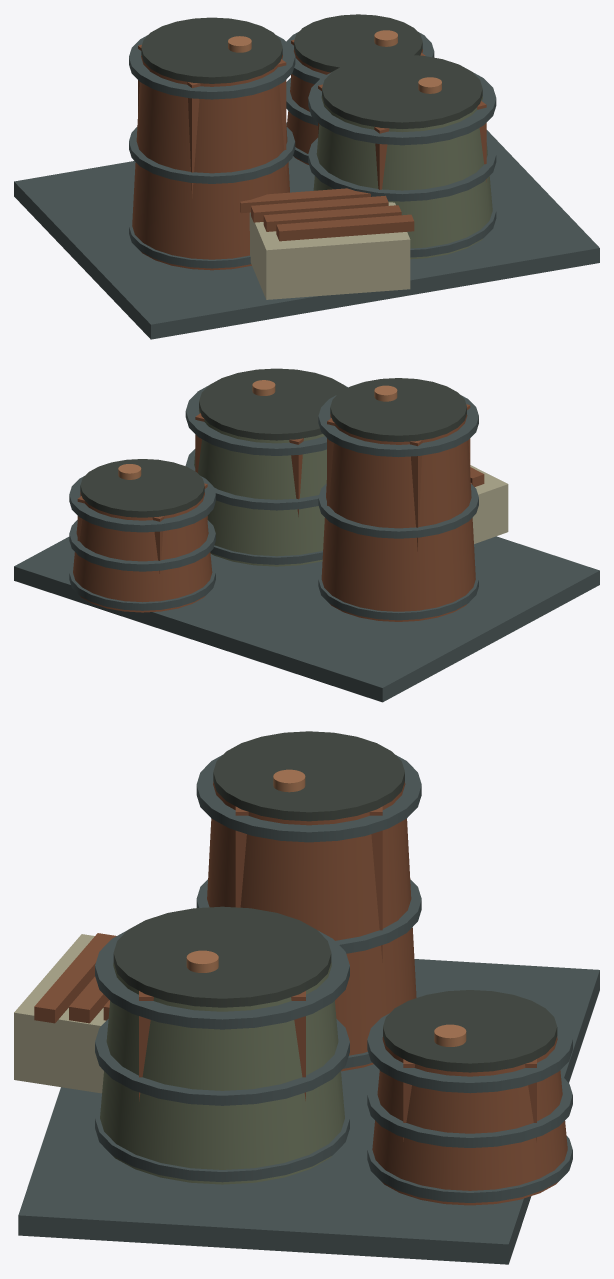
File: FSA_ENV_Outdoor_Scrap_05_Drums.glb
3 renders of one model, top to bottom at view 1: azimuth 30°, elevation 25°; view 2: azimuth 150°, elevation 25°; view 3: azimuth 270°, elevation 25°, orthographic. The views are drawn at different scales.
Visible parts, largest first — view 1: BasePlate, Drum0, Drum1, CrushedCan, Lid1, Lid0, Lid2, Hoop1_2, Hoop0_2, Hoop1_1, DentFold3, Hoop0_1 (+10 smaller); view 2: BasePlate, Drum0, Drum1, Drum2, Lid1, Lid0, Lid2, Hoop0_2, Hoop2_2, Hoop1_2, Hoop0_1, CrushedCan (+7 smaller); view 3: BasePlate, Drum1, Drum0, Lid1, Drum2, Lid0, Lid2, CrushedCan, Hoop1_2, Hoop0_2, Hoop1_1, Hoop2_2 (+9 smaller).
Boxes of the visible parts, left/top/right/bottom form: BasePlate: left=14, top=130, right=599, bottom=339; Drum0: left=132, top=55, right=289, bottom=270; Drum1: left=313, top=96, right=492, bottom=259; CrushedCan: left=249, top=202, right=410, bottom=299; Lid1: left=322, top=54, right=482, bottom=128; Lid0: left=141, top=17, right=282, bottom=83; Lid2: left=294, top=14, right=422, bottom=72; Hoop1_2: left=308, top=72, right=496, bottom=145; Hoop0_2: left=129, top=35, right=295, bottom=99; Hoop1_1: left=308, top=138, right=496, bottom=201; DentFold3: left=276, top=214, right=414, bottom=241; Hoop0_1: left=129, top=127, right=295, bottom=183; BasePlate: left=14, top=536, right=599, bottom=702; Drum0: left=321, top=414, right=475, bottom=621; Drum1: left=194, top=408, right=326, bottom=566; Drum2: left=73, top=492, right=212, bottom=612; Lid1: left=199, top=368, right=346, bottom=440; Lid0: left=330, top=378, right=466, bottom=441; Lid2: left=80, top=459, right=204, bottom=517; Hoop0_2: left=318, top=395, right=478, bottom=457; Hoop2_2: left=69, top=476, right=215, bottom=532; Hoop1_2: left=185, top=385, right=347, bottom=455; Hoop0_1: left=318, top=483, right=478, bottom=538; CrushedCan: left=470, top=465, right=508, bottom=543; BasePlate: left=18, top=959, right=599, bottom=1264; Drum1: left=100, top=962, right=344, bottom=1184; Drum0: left=207, top=781, right=416, bottom=1071; Lid1: left=113, top=906, right=331, bottom=1007; Drum2: left=372, top=1036, right=567, bottom=1205; Lid0: left=213, top=731, right=404, bottom=821; Lid2: left=383, top=990, right=557, bottom=1072; CrushedCan: left=14, top=934, right=105, bottom=1093; Hoop1_2: left=95, top=930, right=349, bottom=1029; Hoop0_2: left=196, top=755, right=421, bottom=842; Hoop1_1: left=95, top=1019, right=349, bottom=1105; Hoop2_2: left=367, top=1013, right=572, bottom=1093.
Size of the model in its own units: 2.9 by 1.28 by 2.37.
